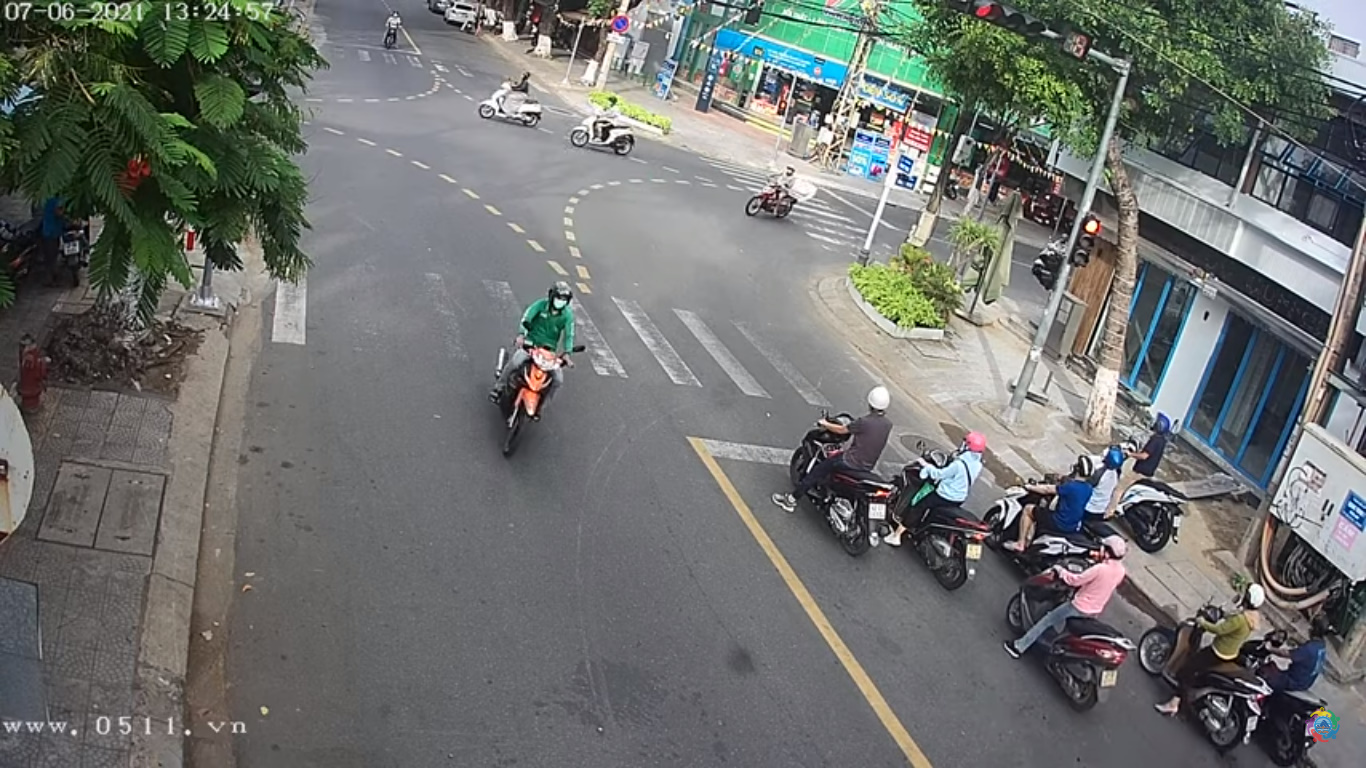motorbike: (494, 281, 581, 456)
